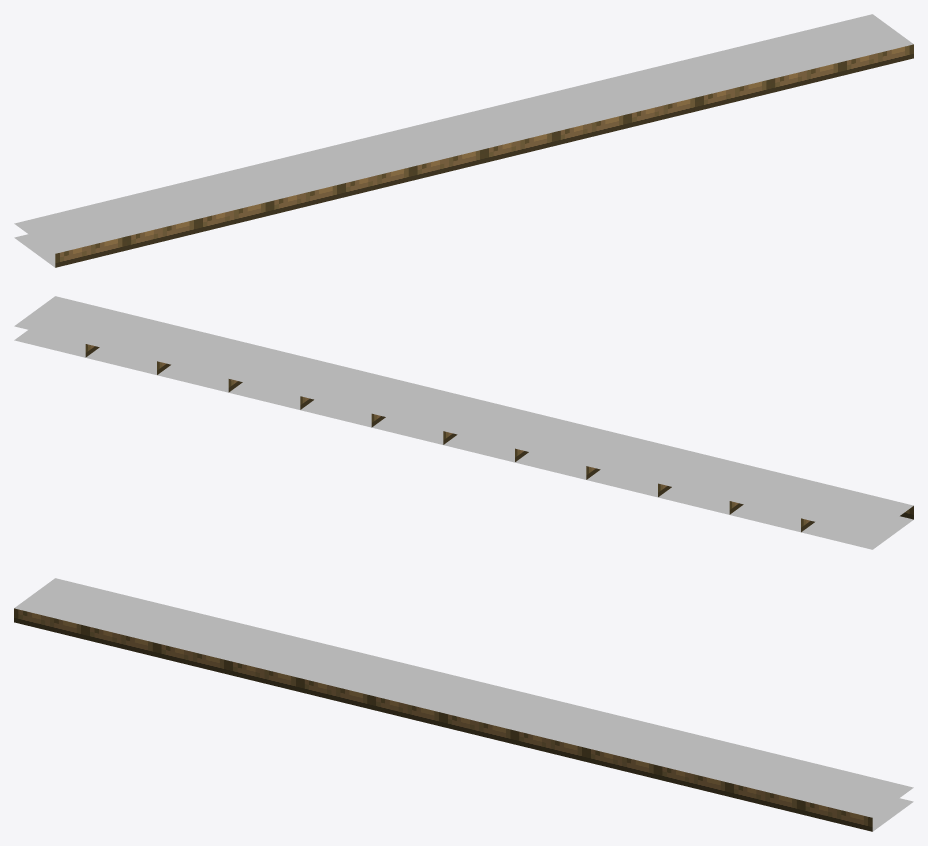
The model's file is trapdoor_combined_4a_lod0.fbx.
3 views of the same model, one above another, from view 1: azimuth 30°, elevation 25°; view 2: azimuth 150°, elevation 25°; view 3: azimuth 330°, elevation 25° (orthographic).
Visible parts, largest first — view 1: trapdoor_combined_4a_lod0; view 2: trapdoor_combined_4a_lod0; view 3: trapdoor_combined_4a_lod0.
Boxes of the visible parts, bbox=[...] form: trapdoor_combined_4a_lod0: bbox=[14, 14, 913, 267]; trapdoor_combined_4a_lod0: bbox=[14, 296, 913, 549]; trapdoor_combined_4a_lod0: bbox=[14, 578, 913, 831].
Size of the model in its own units: 1219 by 19.05 by 102.
